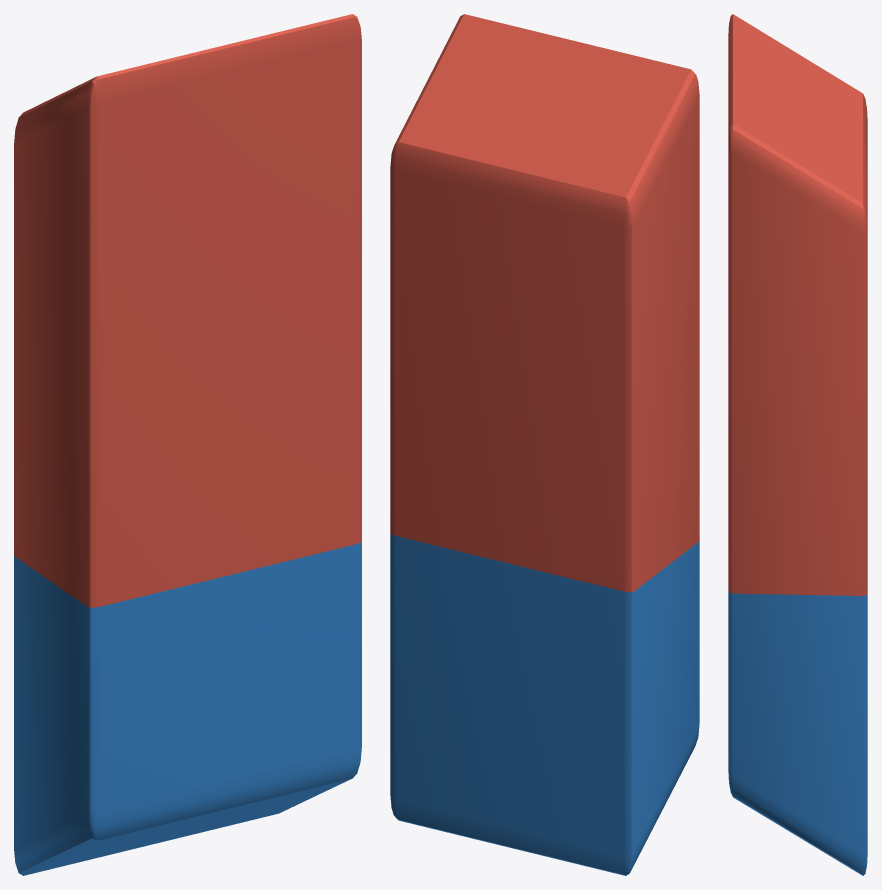
The model's file is eraser.fbx.
The picture shows the model from 3 angles, left to right: view 1: azimuth 30°, elevation 25°; view 2: azimuth 150°, elevation 25°; view 3: azimuth 270°, elevation 25°; orthographic projection. The views are drawn at different scales.
Visible parts, largest first — view 1: Eraser; view 2: Eraser; view 3: Eraser.
Part boxes in pixels (x1,y1,x2,y2): Eraser: (14,14,361,875); Eraser: (390,14,699,875); Eraser: (728,14,867,875).
Size of the model in its own units: 3 by 8.93 by 1.5.
